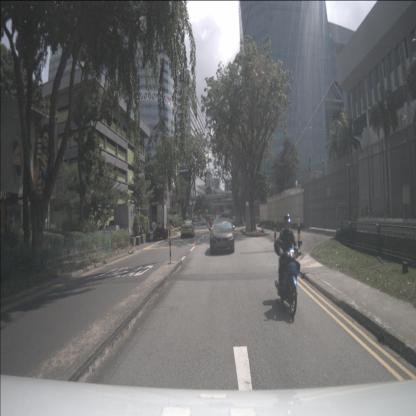human-pedestrian-adult: (151, 219, 157, 241)
vehicle-car: (210, 217, 234, 254), (180, 220, 194, 238), (220, 212, 232, 231), (206, 214, 212, 224), (209, 215, 215, 223), (201, 218, 207, 226)
vehicle-motorcycle: (274, 214, 302, 317)
vehicle-truck: (149, 203, 168, 240)
